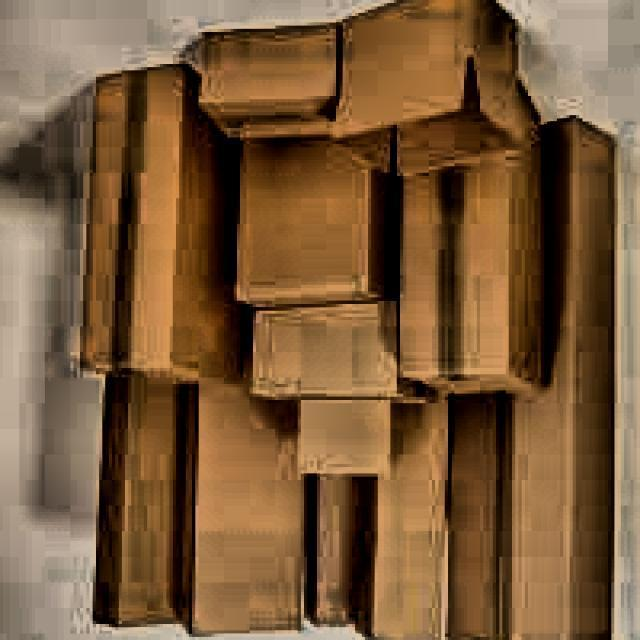cardboard: (80, 0, 618, 640)
